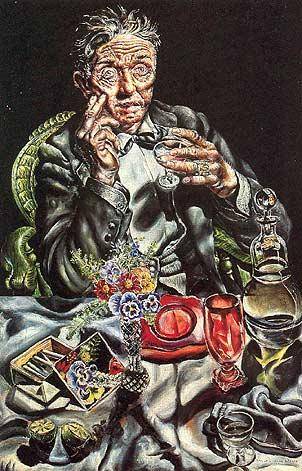person: (31, 11, 292, 304)
